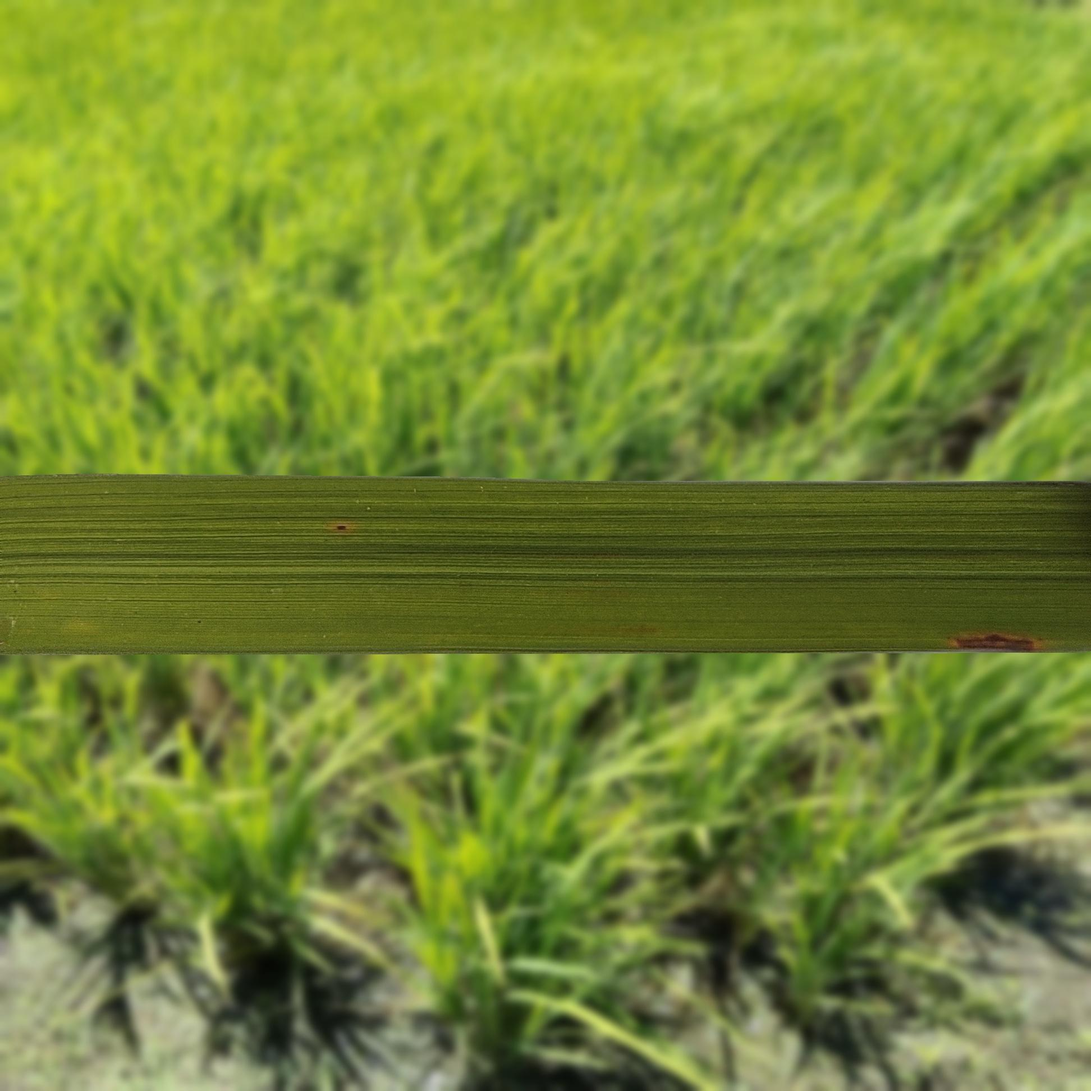LEAF BLAST: (951, 634, 1044, 652)
